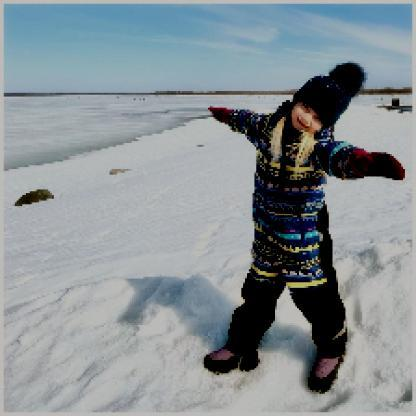child: (203, 61, 406, 394)
